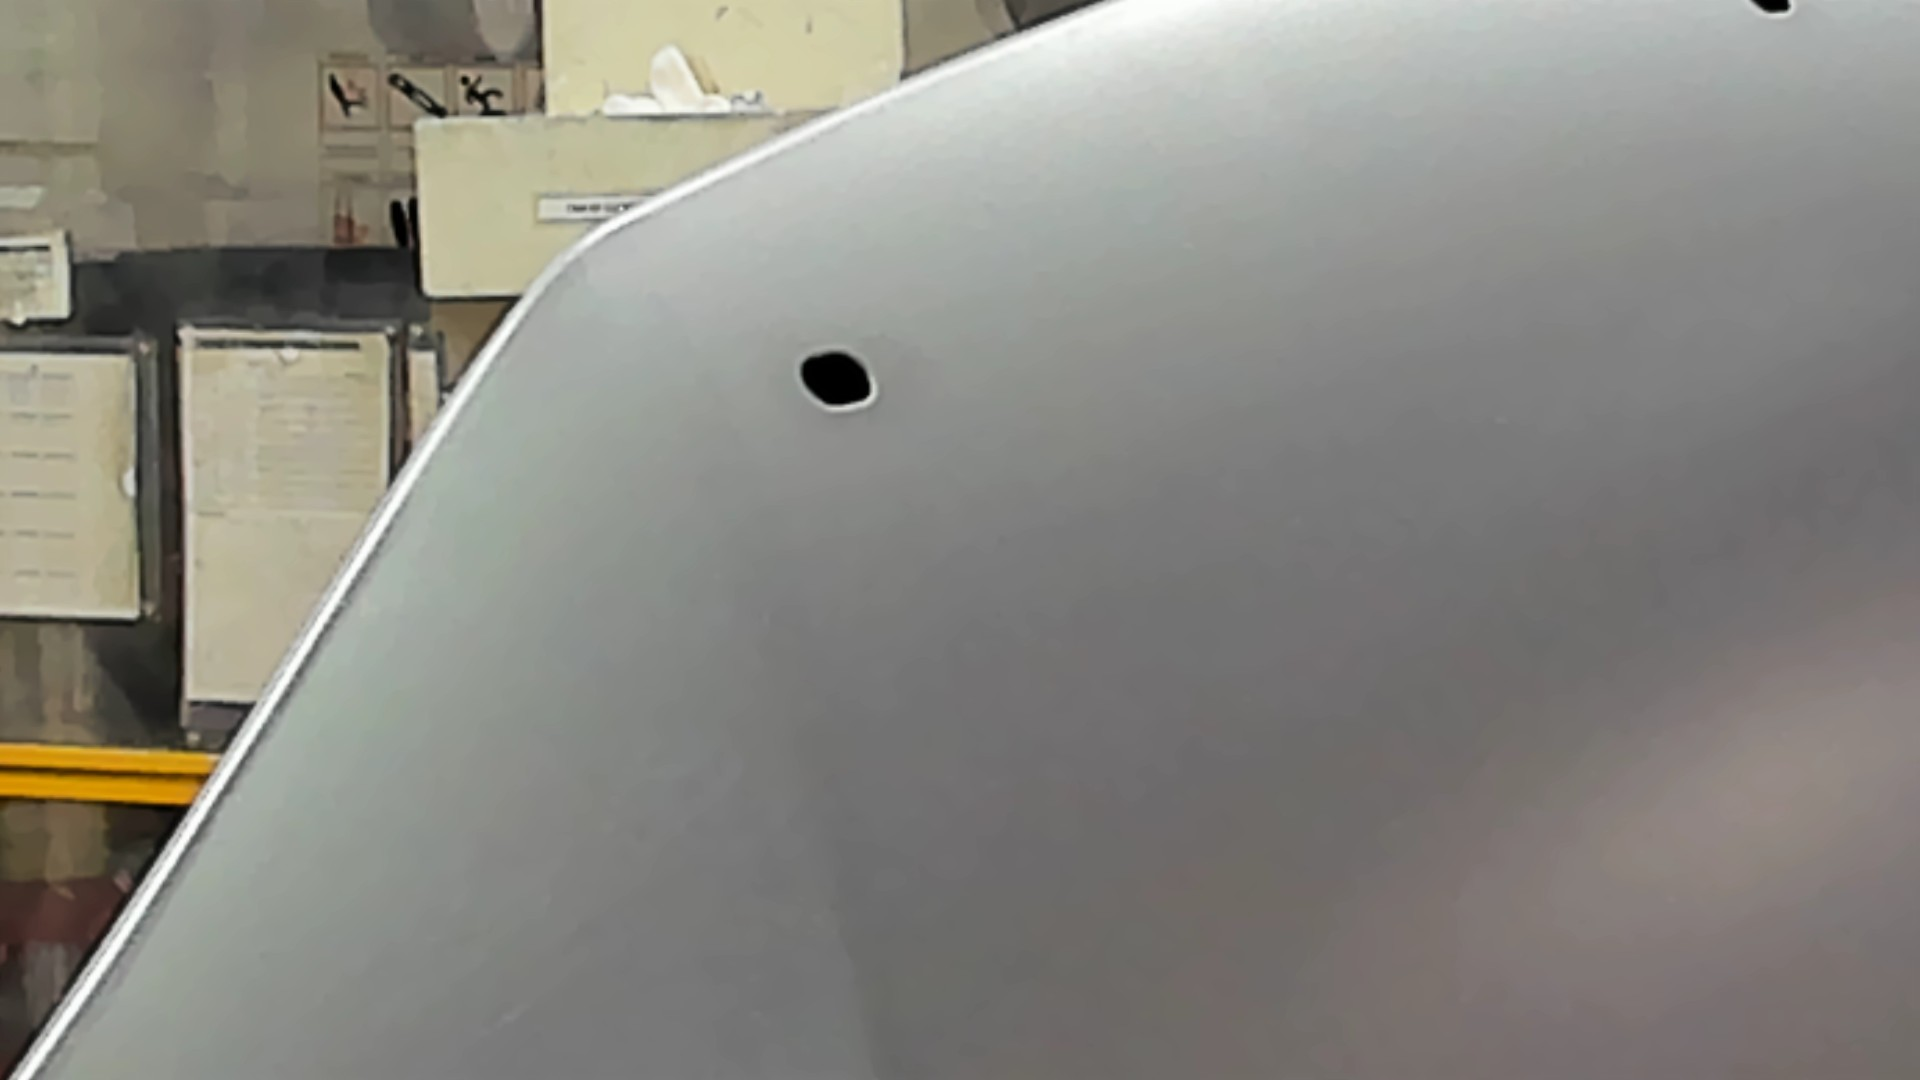amorfo: (791, 345, 887, 419), (1734, 1, 1800, 26)
